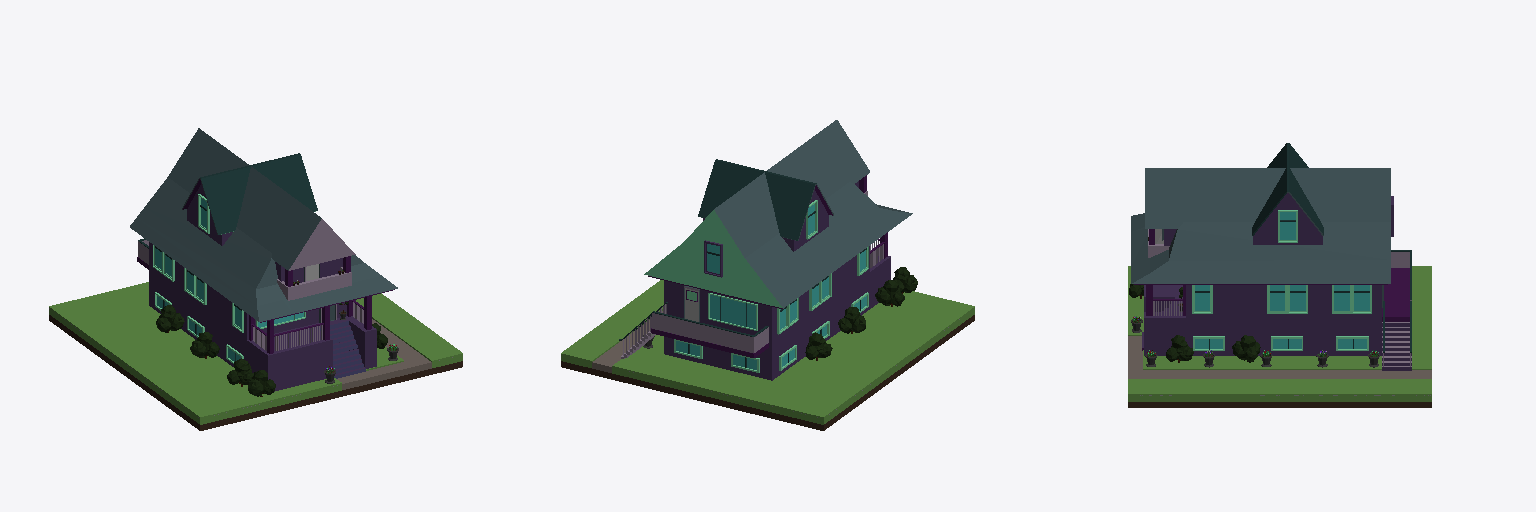
Rendered from house_3.obj.
3 renders of one model, left to right at view 1: azimuth 30°, elevation 25°; view 2: azimuth 150°, elevation 25°; view 3: azimuth 270°, elevation 25°, orthographic.
Parts seen in each view (by area): view 1: house_3_h; view 2: house_3_h; view 3: house_3_h.
Part boxes in pixels (bbox=[...]): house_3_h: bbox=[49, 128, 462, 430]; house_3_h: bbox=[561, 120, 974, 430]; house_3_h: bbox=[1128, 143, 1431, 407].
Bounding box in the file's own units: 22 × 14.02 × 22.